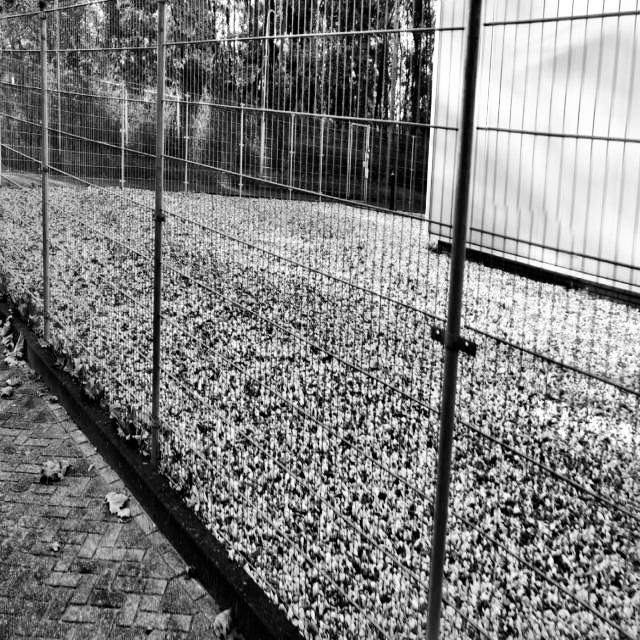fences: (190, 19, 640, 640), (1, 15, 168, 425)
